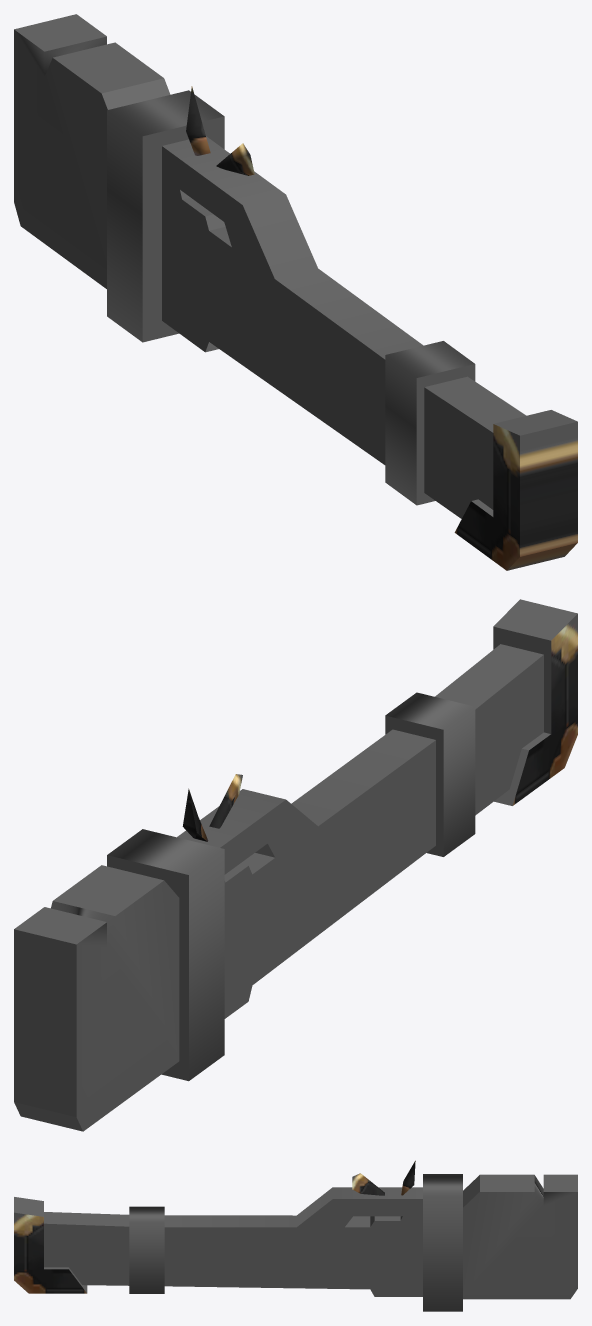
3 views of the same model, one above another, from view 1: azimuth 30°, elevation 25°; view 2: azimuth 150°, elevation 25°; view 3: azimuth 270°, elevation 25° (orthographic). The views are drawn at different scales.
Parts seen in each view (by area): view 1: mSaya; view 2: mSaya; view 3: mSaya.
Part boxes in pixels (left/top/right/bottom): mSaya: left=14, top=14, right=577, bottom=570; mSaya: left=14, top=599, right=577, bottom=1131; mSaya: left=14, top=1160, right=577, bottom=1311.
Bounding box in the file's own units: 0.0545 × 0.16 × 0.5806.
